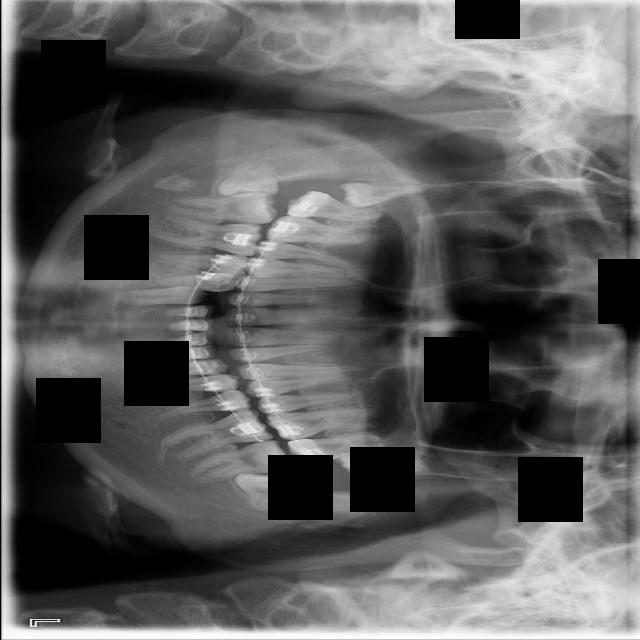3M ESPE Implant: (338, 182, 422, 208)
73: (38, 600, 48, 606)
BioHorizons Implant: (286, 430, 385, 469)
BioLife Implant: (332, 450, 430, 480)
Biomet 3i Implant: (231, 470, 297, 513)
Blue Sky Bio Implant: (185, 437, 295, 482)
Caries: (284, 188, 382, 225)
Implant: (169, 191, 278, 229)
Keystone Dental Implant: (215, 160, 279, 198)
